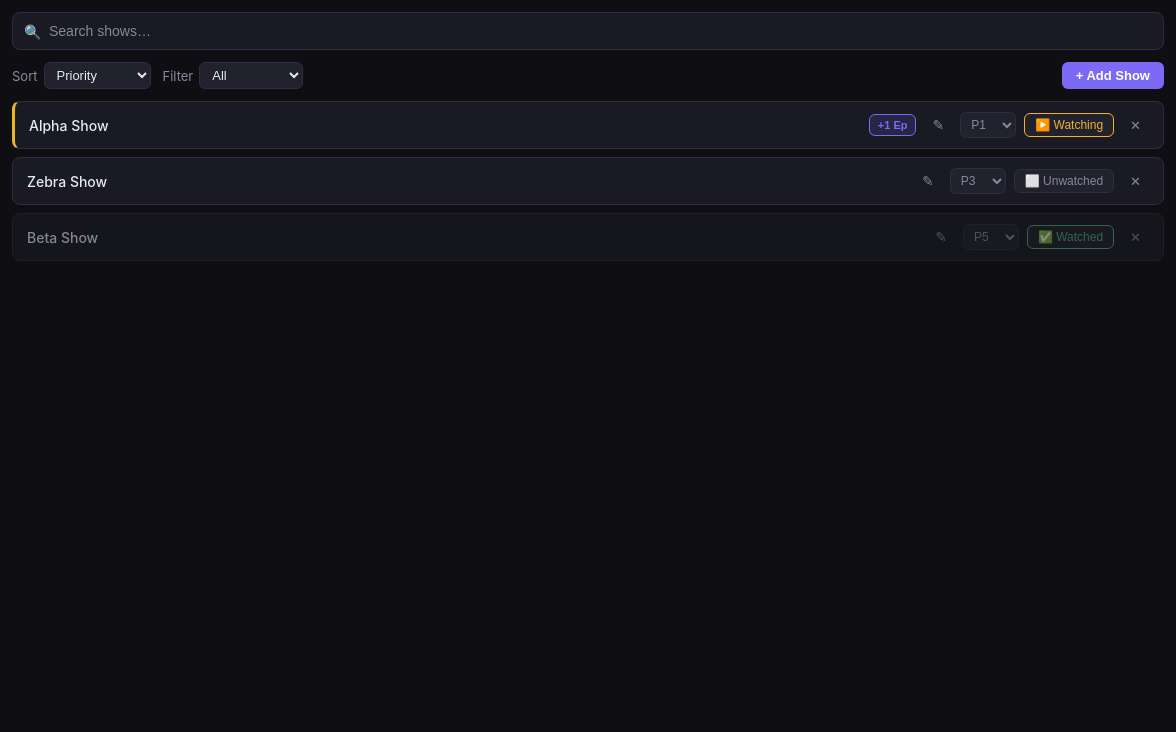
Scenario: ShowList › shows add form when + Add Show is clicked
Click the button "+ Add Show": (1113, 76) [1062,62,1164,89]
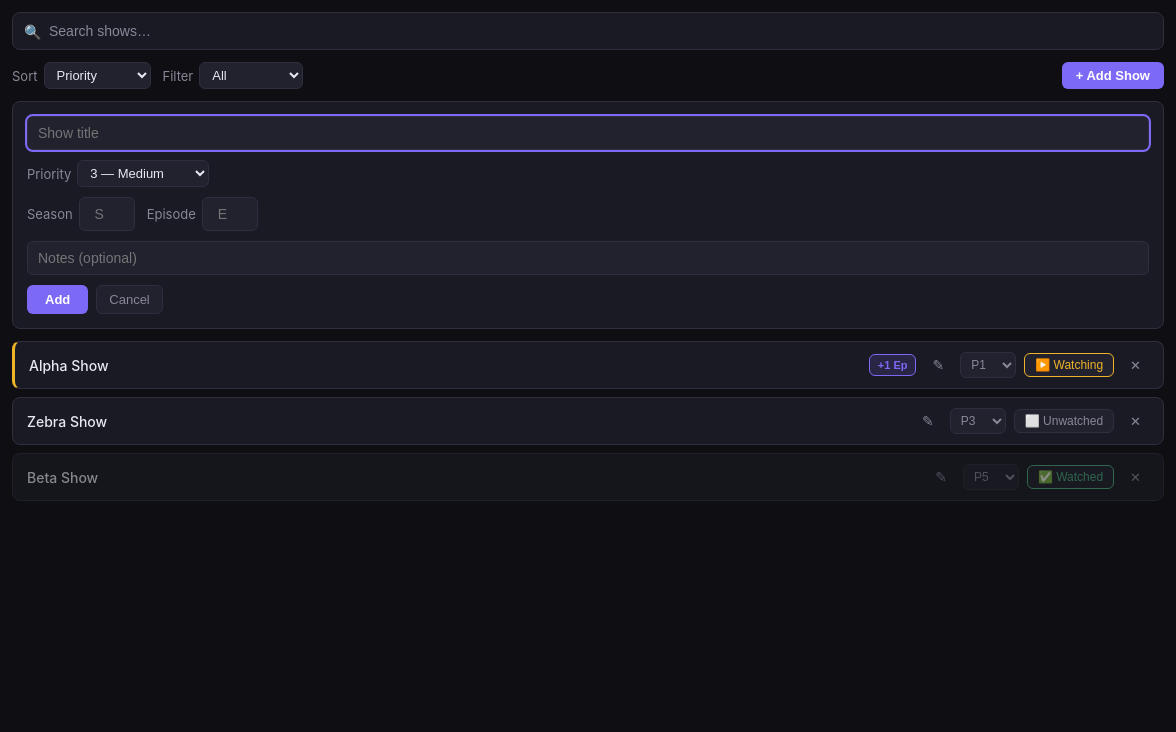
Expected: the field with placeholder "Show title" is shown, [27,116,1149,150]
